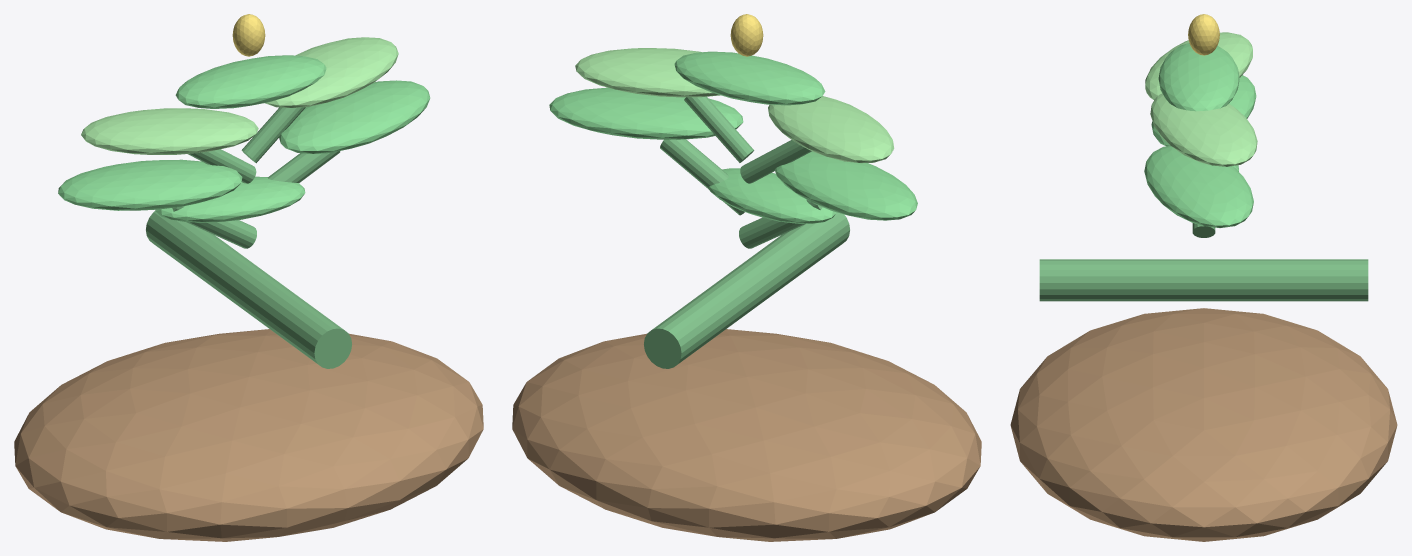
Rendered from tanaman_fotosintesis_3d.glb.
The picture shows the model from 3 angles, left to right: view 1: azimuth 30°, elevation 25°; view 2: azimuth 150°, elevation 25°; view 3: azimuth 270°, elevation 25°; orthographic projection. The views are drawn at different scales.
Parts seen in each view (by area): view 1: part_0, part_1, part_6, part_7, part_8, part_10, part_9, part_11, part_5, part_3, part_2, part_12 (+1 smaller); view 2: part_0, part_1, part_7, part_6, part_10, part_8, part_9, part_11, part_3, part_5, part_4, part_2 (+1 smaller); view 3: part_0, part_1, part_7, part_9, part_10, part_8, part_12, part_6.
Boxes of the visible parts, box(x1,y1,x2,y2) form: part_0: box(14, 329, 483, 541); part_1: box(146, 211, 351, 368); part_6: box(58, 159, 242, 210); part_7: box(279, 80, 430, 153); part_8: box(81, 108, 258, 154); part_10: box(175, 55, 326, 108); part_9: box(264, 37, 398, 107); part_11: box(155, 176, 305, 222); part_5: box(241, 107, 305, 163); part_3: box(267, 151, 340, 182); part_2: box(172, 206, 256, 248); part_12: box(232, 14, 265, 56); part_0: box(512, 329, 981, 541); part_1: box(644, 212, 849, 368); part_7: box(549, 87, 743, 139); part_6: box(774, 151, 917, 220); part_10: box(674, 51, 825, 105); part_8: box(768, 96, 894, 163); part_9: box(575, 48, 720, 97); part_11: box(708, 168, 836, 223); part_3: box(660, 139, 744, 215); part_5: box(684, 96, 754, 162); part_4: box(740, 140, 811, 183); part_2: box(739, 200, 822, 248); part_0: box(1010, 308, 1397, 541); part_1: box(1039, 259, 1368, 301); part_7: box(1144, 146, 1253, 227); part_9: box(1150, 93, 1257, 166); part_10: box(1158, 43, 1239, 111); part_8: box(1145, 32, 1252, 99); part_12: box(1188, 14, 1219, 55); part_6: box(1151, 75, 1256, 146).
Size of the model in its own units: 5 by 5.33 by 4.
